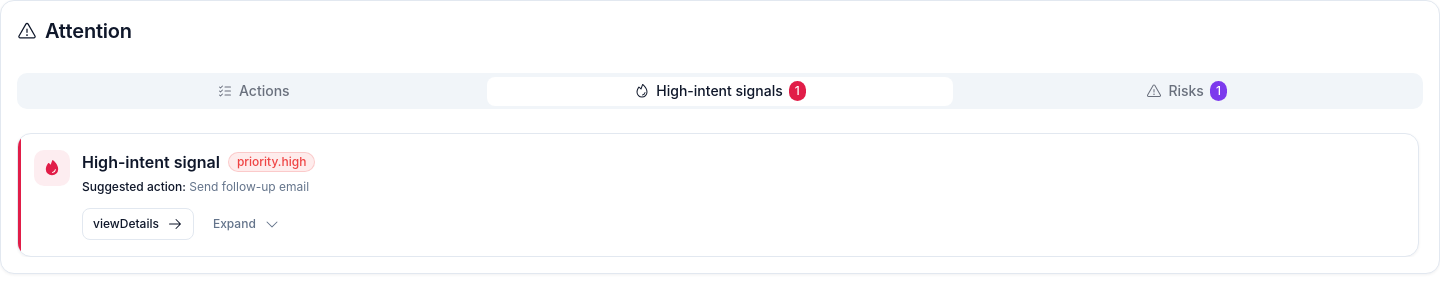
Test: AttentionZone › shows empty state for actions
Step 1. Click the tab "Actions" → (253, 91), box 20,76 -> 487,106
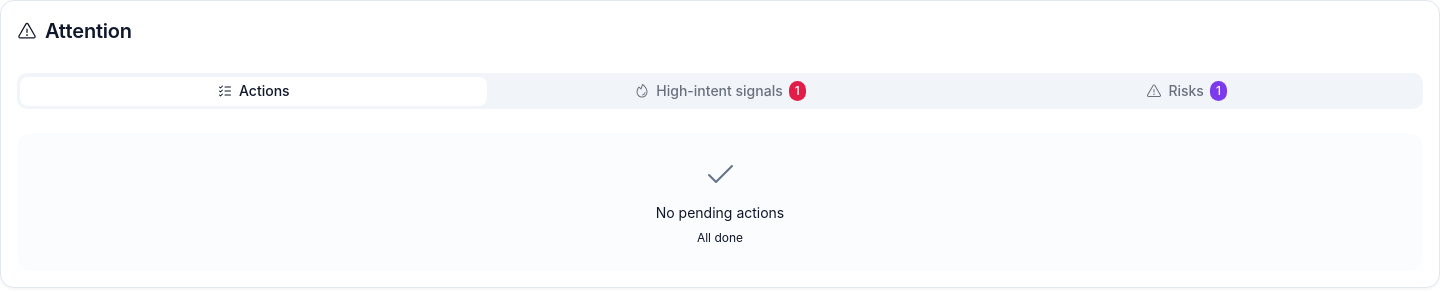
expect the heading "No pending actions" is shown: met, box 656,201 -> 784,225
